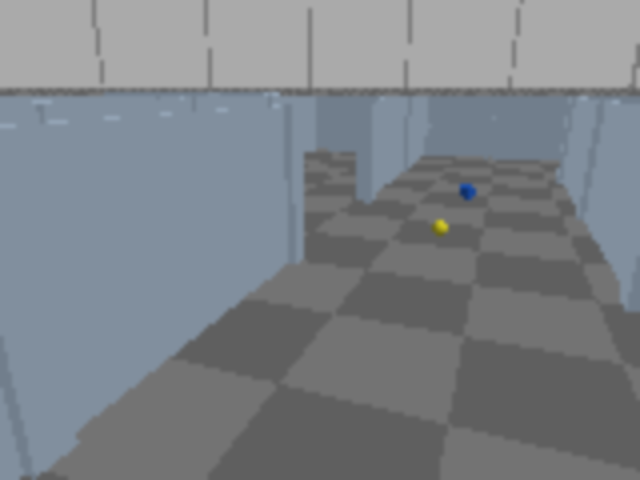puck: (429, 218, 451, 238)
